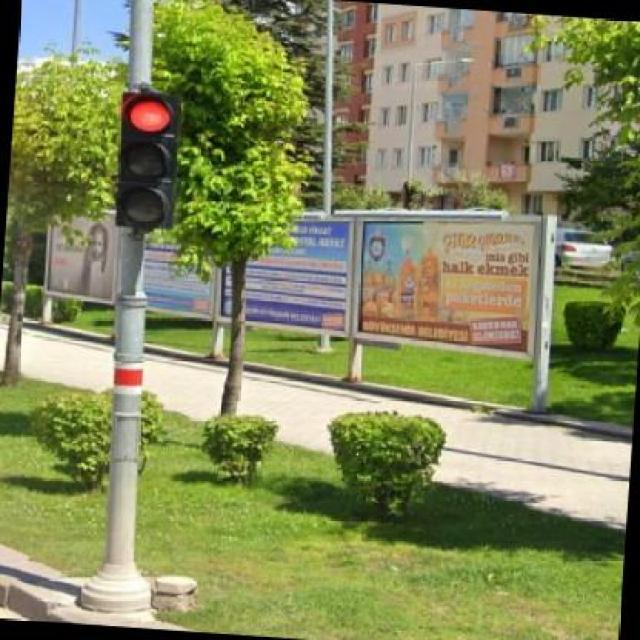kirmizi: (117, 92, 177, 228)
